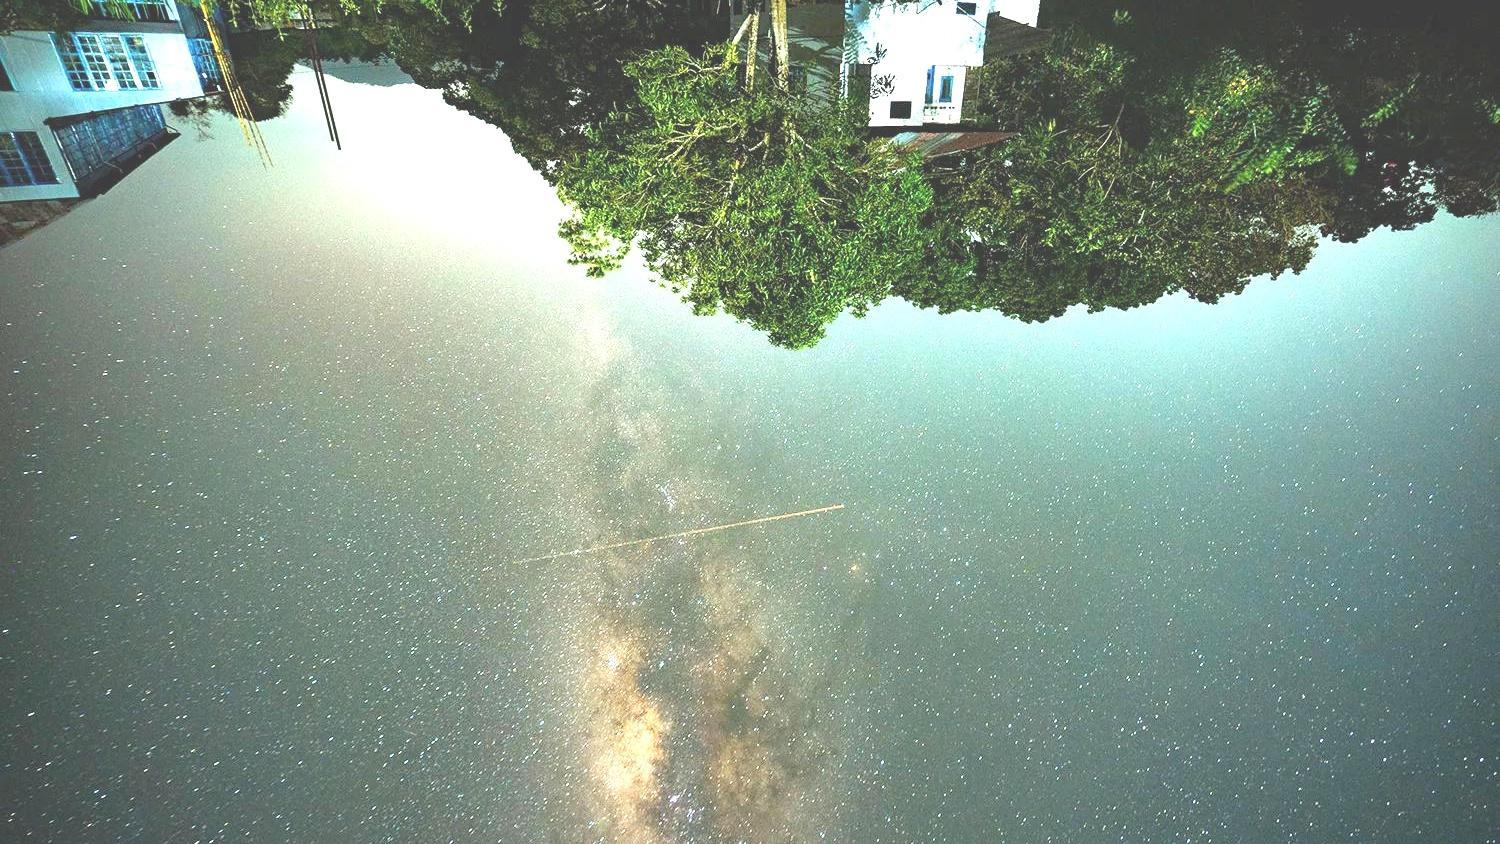meteorite: (650, 498, 864, 543)
